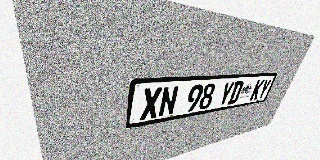8: (198, 83, 217, 110)
9: (184, 84, 205, 112)
D: (227, 81, 244, 105)
K: (249, 79, 265, 101)
N: (158, 86, 179, 117)
X: (140, 87, 162, 121)
Y: (217, 82, 235, 107), (257, 79, 272, 99)
